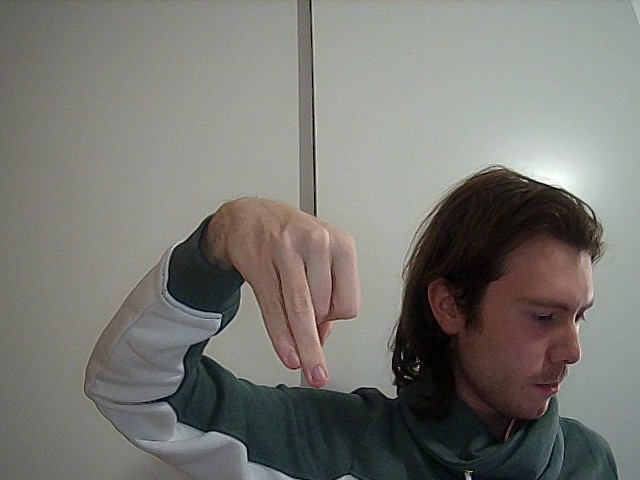n: (209, 188, 376, 395)
